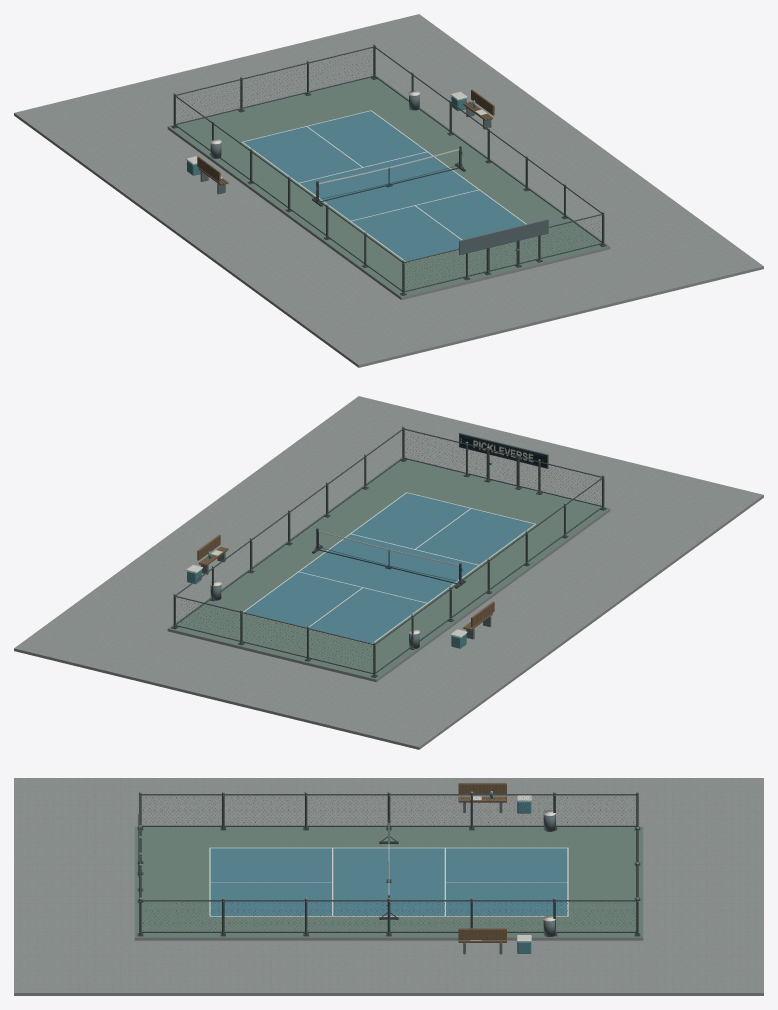
Rendered from PickleballCourt_LowPoly.glb.
3 renders of one model, top to bottom at view 1: azimuth 30°, elevation 25°; view 2: azimuth 150°, elevation 25°; view 3: azimuth 270°, elevation 25°, orthographic. The views are drawn at different scales.
Visible parts, largest first — view 1: Refined_Venue_Paving, Court_Surface_InlaidLines, Refined_Venue_Structure, Refined_Venue_Metal, Refined_Venue_Timber, PortableNet_Black_Frame; view 2: Refined_Venue_Paving, Court_Surface_InlaidLines, Refined_Venue_Structure, Refined_Venue_Signage, Refined_Venue_Metal, Refined_Venue_Timber, PortableNet_Black_Frame; view 3: Refined_Venue_Paving, Court_Surface_InlaidLines, Refined_Venue_Structure, Refined_Venue_Timber, Refined_Venue_Metal, Refined_Venue_OffWhite, Refined_Venue_Polymer.
Boxes of the visible parts, x1,y1,x2,y2 form: Refined_Venue_Paving: (14,14,763,367); Court_Surface_InlaidLines: (167,75,610,300); Refined_Venue_Structure: (171,44,606,295); Refined_Venue_Metal: (200,95,548,255); Refined_Venue_Timber: (197,89,494,185); PortableNet_Black_Frame: (312,147,465,206); Refined_Venue_Paving: (14,396,763,749); Court_Surface_InlaidLines: (167,457,610,682); Refined_Venue_Structure: (171,426,606,677); Refined_Venue_Signage: (459,434,546,467); Refined_Venue_Metal: (200,433,548,648); Refined_Venue_Timber: (197,534,494,630); PortableNet_Black_Frame: (312,529,465,588); Refined_Venue_Paving: (14,778,763,995); Court_Surface_InlaidLines: (134,826,643,940); Refined_Venue_Structure: (137,791,640,936); Refined_Venue_Timber: (458,783,506,942); Refined_Venue_Metal: (138,802,555,954); Refined_Venue_OffWhite: (470,791,555,941); Refined_Venue_Polymer: (490,792,531,953).
Size of what is drawn, in the model's own units: 19 by 2.09 by 28.
Materials: 16 (16 with a texture image).
